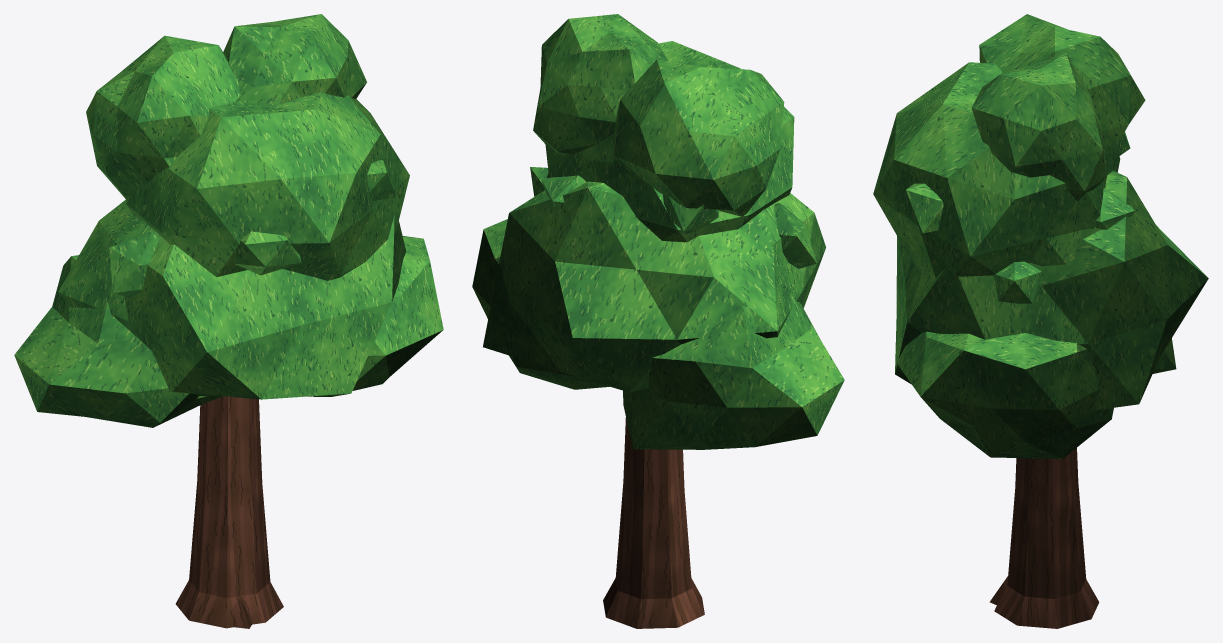
The model's file is tree.glb.
3 renders of one model, left to right at view 1: azimuth 30°, elevation 25°; view 2: azimuth 150°, elevation 25°; view 3: azimuth 270°, elevation 25°, orthographic.
Parts seen in each view (by area): view 1: tree; view 2: tree; view 3: tree.
Part boxes in pixels (x1,y1,x2,y2): tree: (14,14,443,628); tree: (472,14,844,628); tree: (873,14,1208,628).
Size of the model in its own units: 1.57 by 2.32 by 1.25.
Materials: 4 (4 with a texture image).
